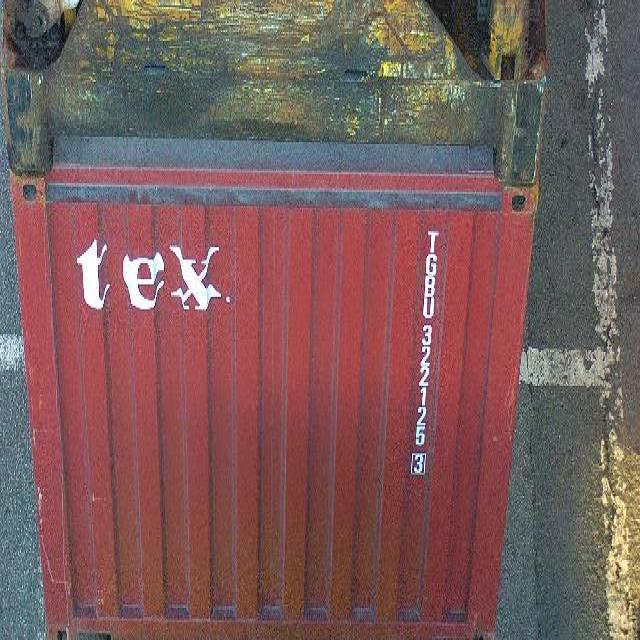container_number: (404, 218, 443, 486)
